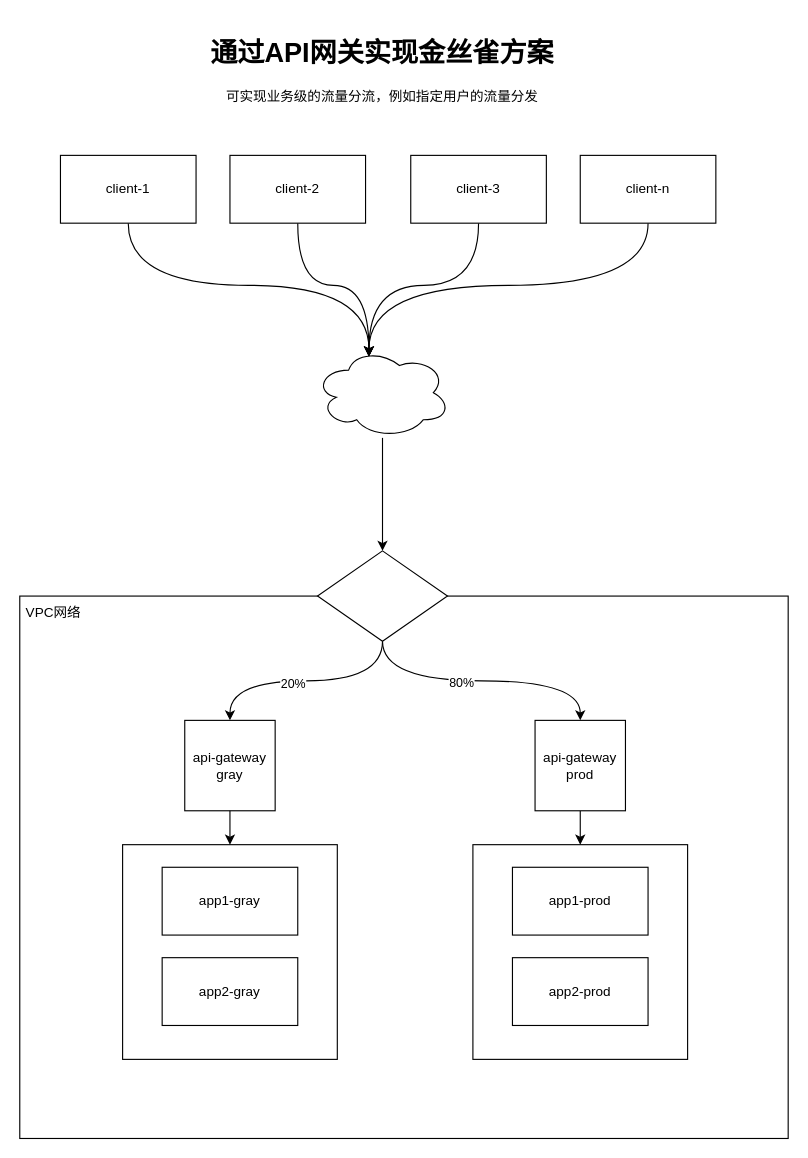
Image size: 808x1158. Some labels were removed from this diagram. Each missing label, with the box of its shape:
SLB 服务器负载均衡: (316, 550, 447, 641)
公网: (314, 346, 450, 438)
